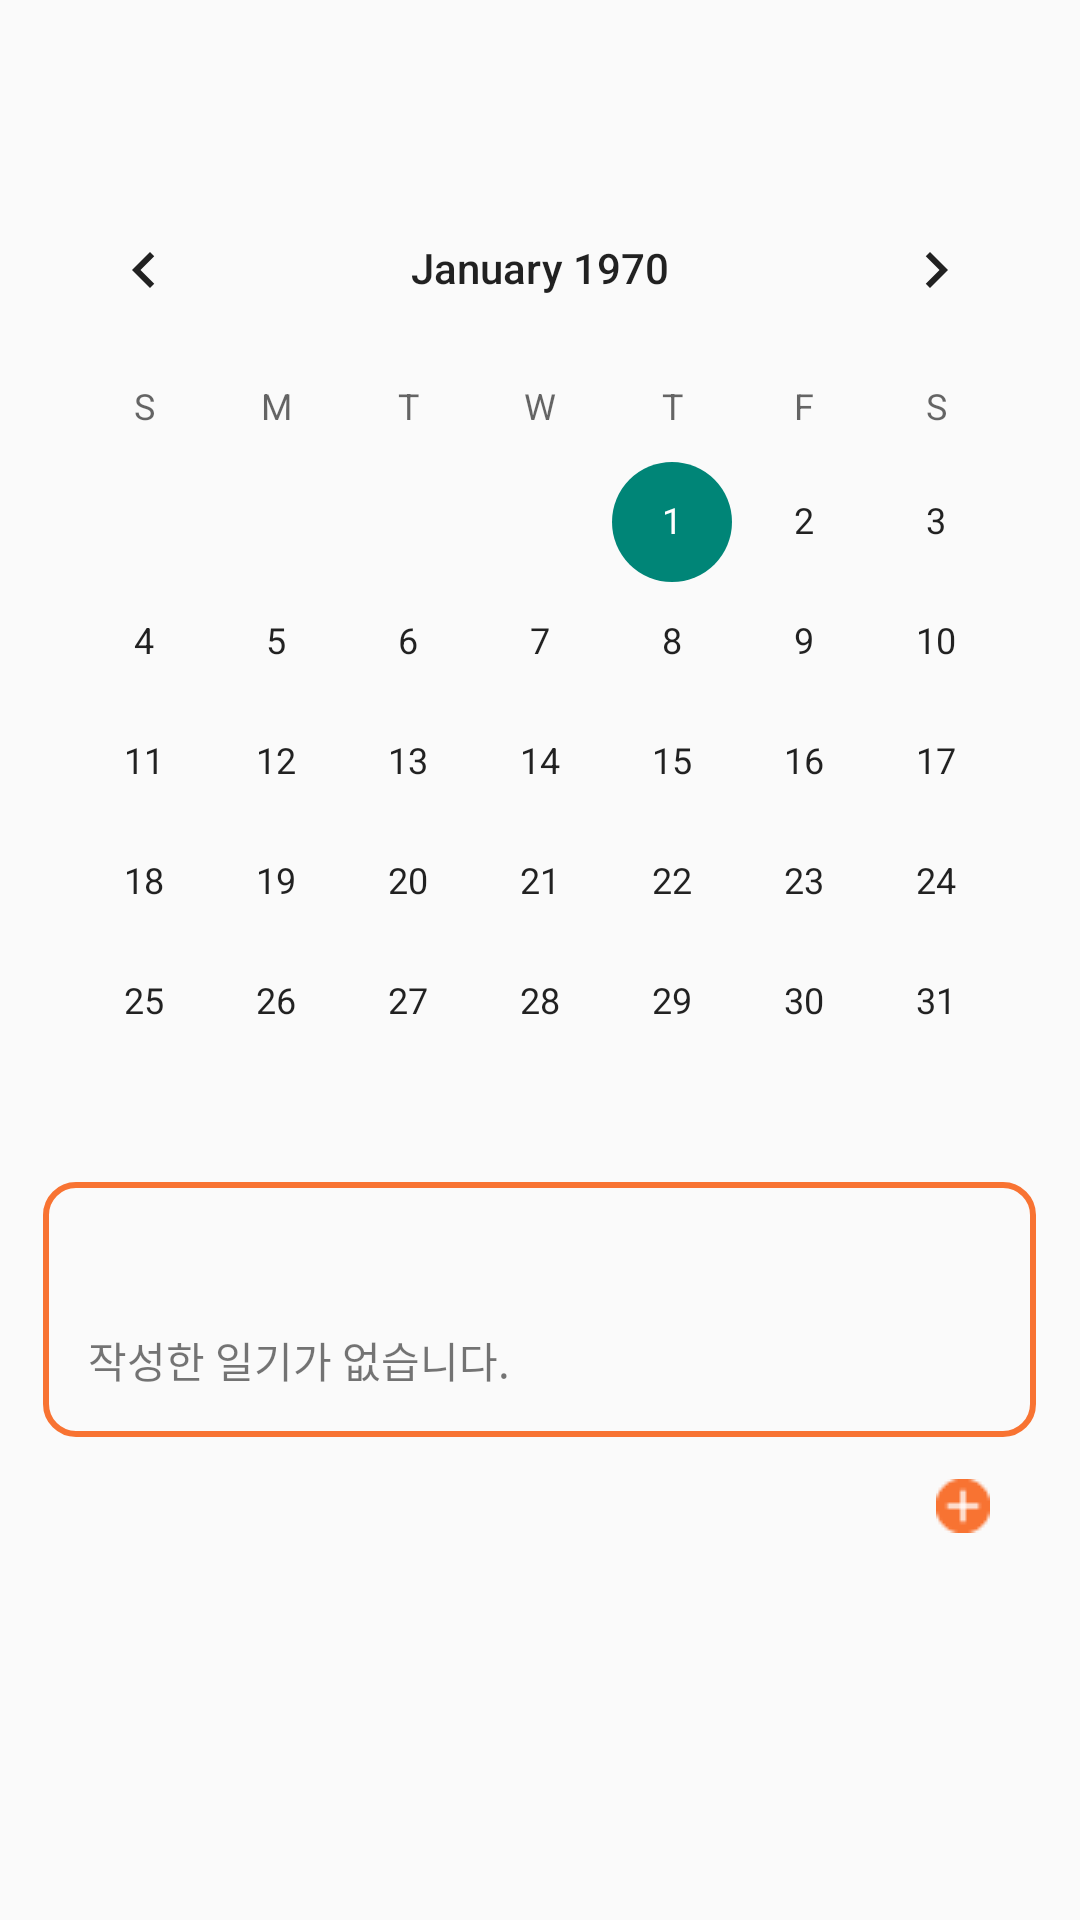

Where icons sit on this 1080px×1920px app screen, as (x1=x1, y1=y1, x2=x2, y2=y2):
todo add: (x1=936, y1=1479, x2=990, y2=1533)
